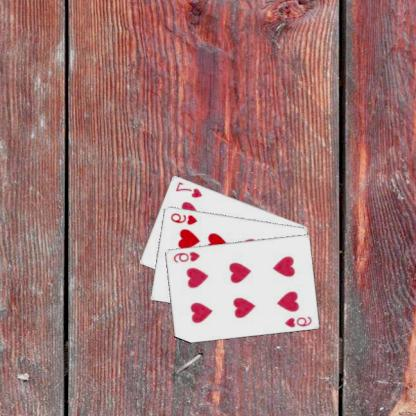6H: (172, 248, 203, 264), (284, 313, 314, 329)
7H: (174, 178, 206, 199)
9H: (170, 210, 200, 226)
